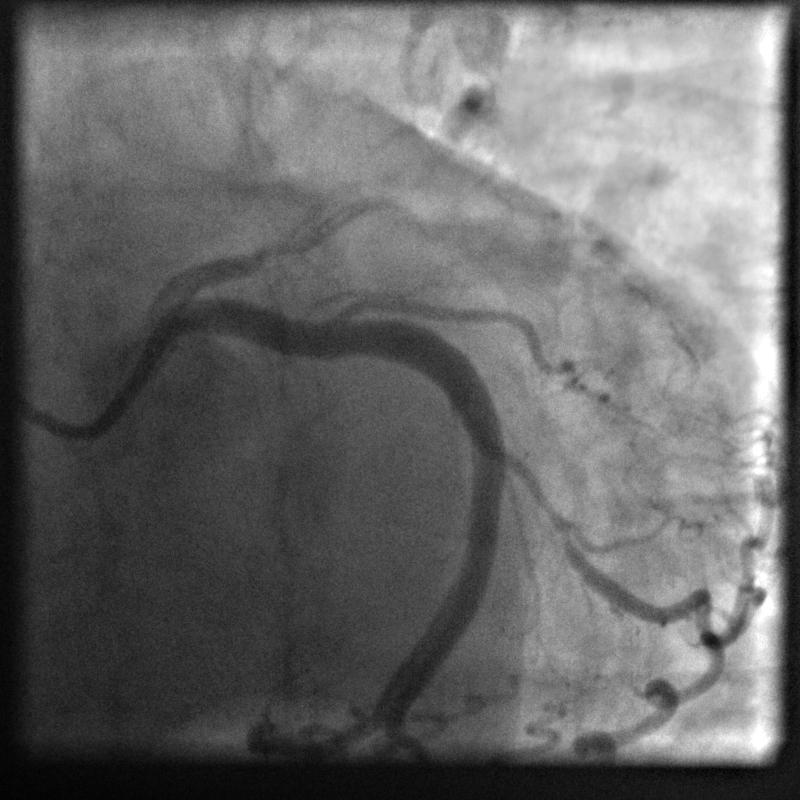Stenosis: (495, 426, 582, 562)
